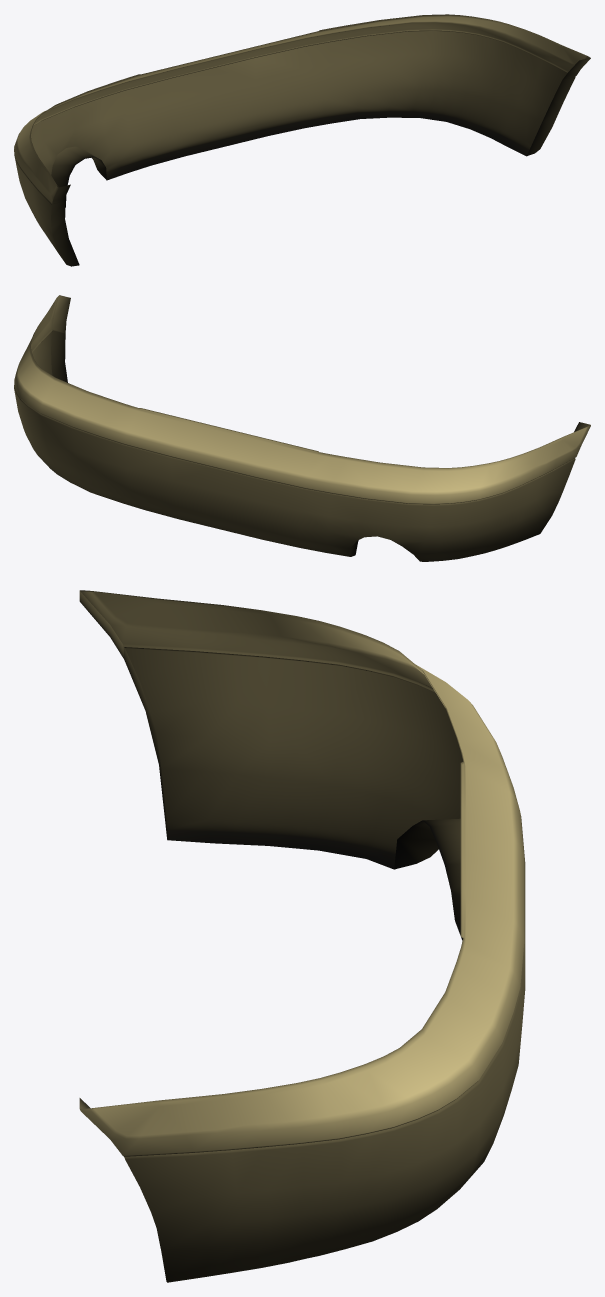
The model's file is MX5_RB01_Duco.fbx.
3 views of the same model, one above another, from view 1: azimuth 30°, elevation 25°; view 2: azimuth 150°, elevation 25°; view 3: azimuth 270°, elevation 25° (orthographic). The views are drawn at different scales.
Visible parts, largest first — view 1: MX5_RB01_Duco; view 2: MX5_RB01_Duco; view 3: MX5_RB01_Duco.
Part boxes in pixels (x1=…): MX5_RB01_Duco: x1=14, y1=14, x2=590, y2=266; MX5_RB01_Duco: x1=14, y1=295, x2=590, y2=561; MX5_RB01_Duco: x1=79, y1=590, x2=525, y2=1282.
Bounding box in the file's own units: 156 × 29.25 × 56.61.
